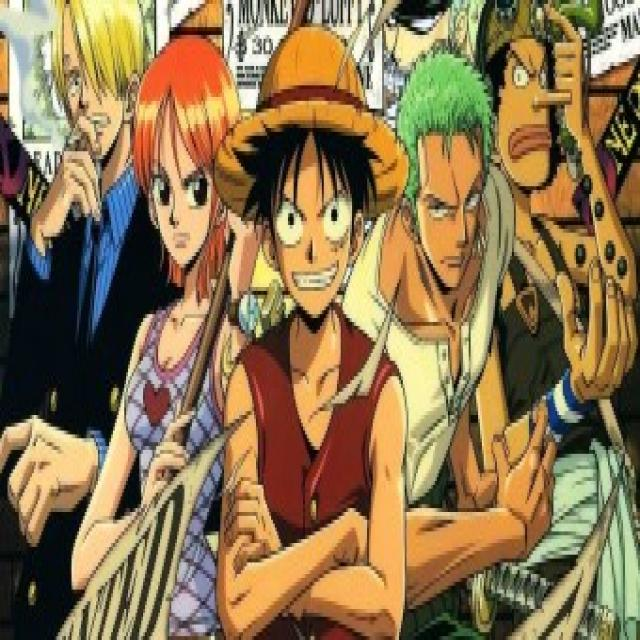Luffy: (220, 38, 401, 314)
Nami: (136, 32, 239, 279)
Sangdi: (48, 0, 148, 154)
Usopp: (476, 0, 570, 202)
Zoro: (393, 57, 496, 283)
